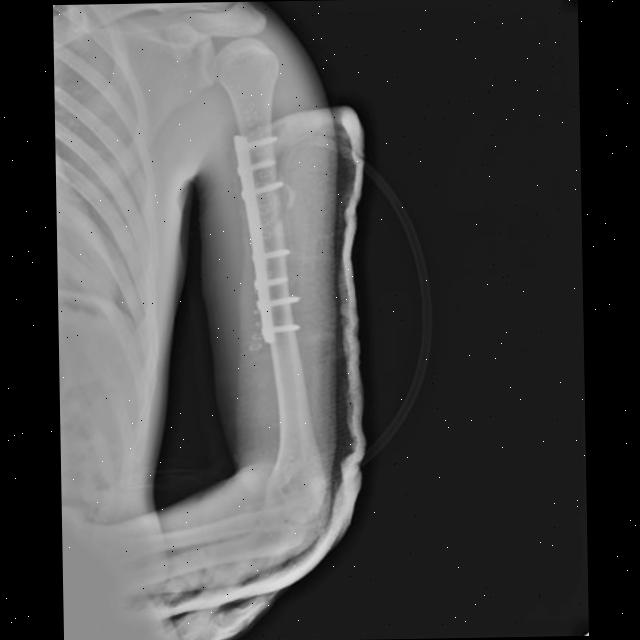Fracture: (258, 205, 281, 241)
